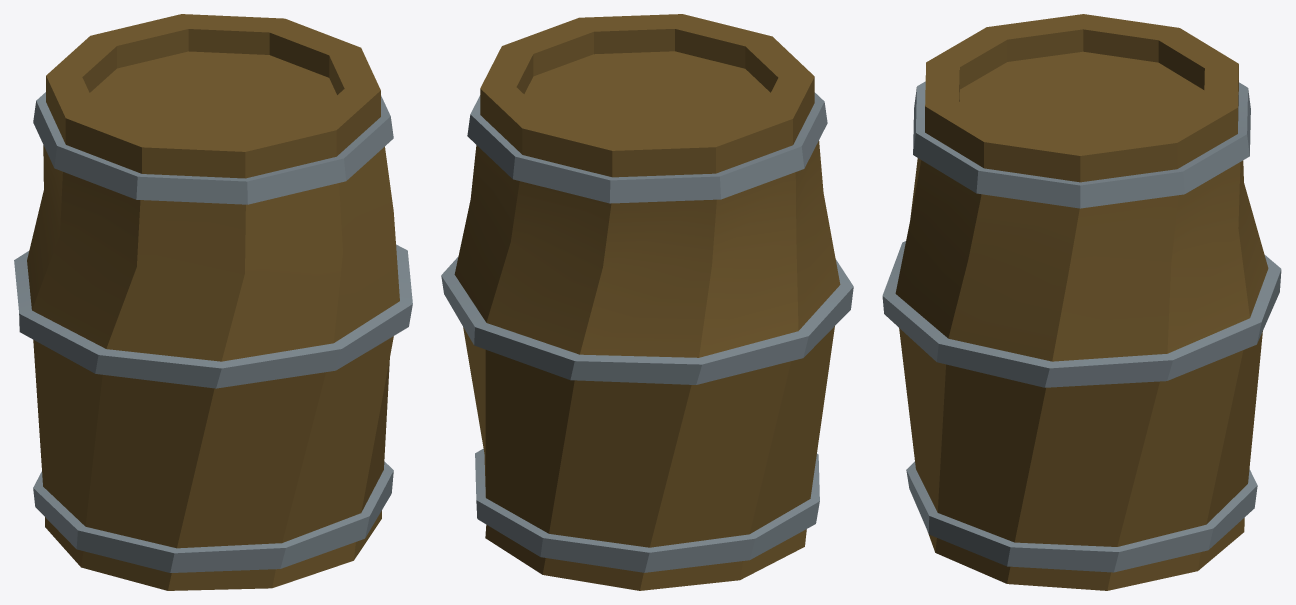
The model's file is Environment_Barrel_Small_Mesh_V03.fbx.
The picture shows the model from 3 angles, left to right: view 1: azimuth 30°, elevation 25°; view 2: azimuth 150°, elevation 25°; view 3: azimuth 270°, elevation 25°; orthographic projection.
Parts seen in each view (by area): view 1: Barrel_S; view 2: Barrel_S; view 3: Barrel_S.
Part boxes in pixels (left/top/right/bottom): Barrel_S: left=14, top=14, right=412, bottom=590; Barrel_S: left=441, top=14, right=853, bottom=590; Barrel_S: left=882, top=14, right=1281, bottom=590.
Size of the model in its own units: 48.06 by 56.71 by 47.06.
